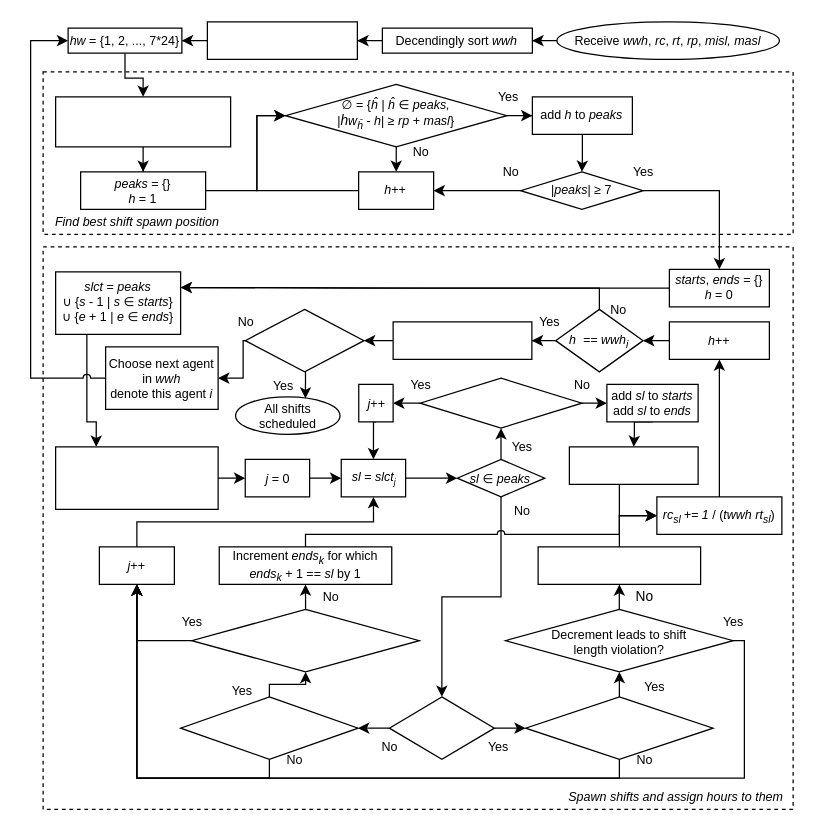
Some shapes in this 816 by 831 pixel diagram are drawn without their labels. Each missing label, with the box of its shape:
Choose 1st agent in wwh denote this agent i: (206, 21, 357, 59)
Decrement starts k for which starts k + 1 == sl by 1: (537, 546, 701, 584)
Increment leads to shift length violation?: (190, 608, 419, 672)
remove sl from peaks: (568, 446, 698, 484)
Shift lengths violated?: (419, 377, 582, 428)
sl - 1 ∈ starts: (388, 696, 494, 759)
Sort hw according to: 1st criterion: rc ascending 2nd criterion: rt descending: (54, 96, 231, 147)
Sort slct according to: 1st criterion: rc ascending 2nd criterion: rt descending: (54, 446, 218, 509)
starts, ends now hold shift schedule for i: (392, 321, 532, 359)
Was i last agent in wwh: (244, 308, 364, 372)
∅ = { s | s ∈ starts, 0 ≤ s - sl < msl + rp }: (179, 696, 358, 759)
∅ = {e | e ∈ ends , 0 ≤ sl - e < msl + rp }: (524, 696, 713, 759)
